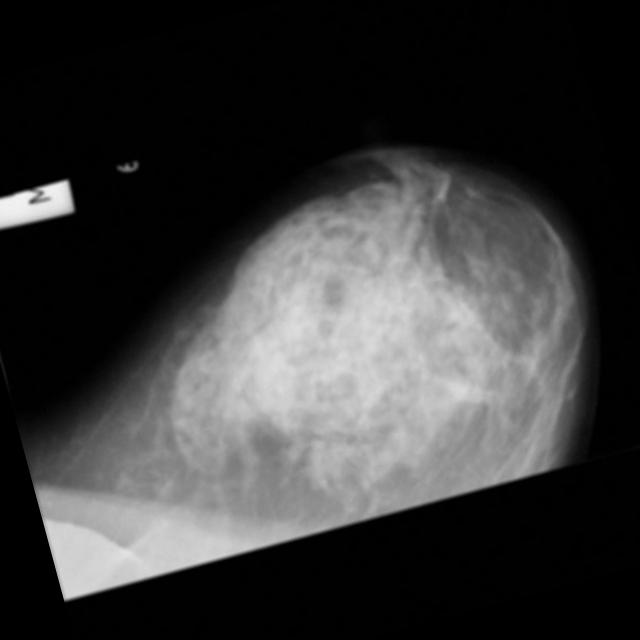ARCH: (280, 394, 372, 486)
